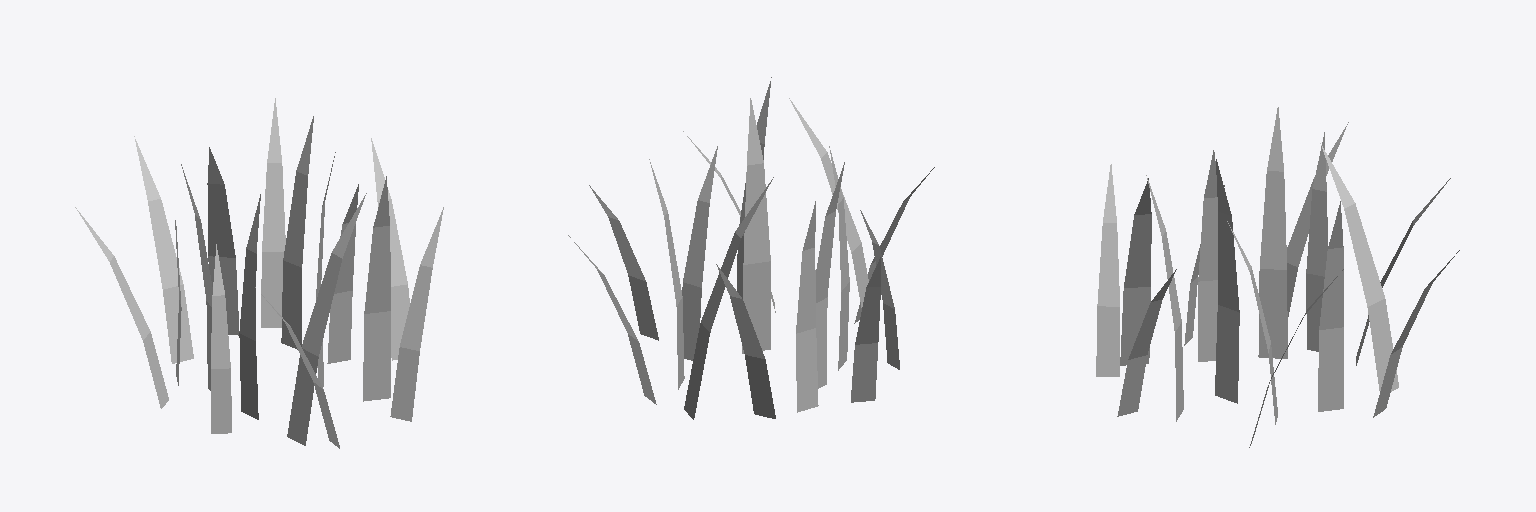
File: Grass.obj
The picture shows the model from 3 angles: view 1: azimuth 30°, elevation 25°; view 2: azimuth 150°, elevation 25°; view 3: azimuth 270°, elevation 25°; orthographic projection.
Parts seen in each view (by area): view 1: Grass_0; view 2: Grass_0; view 3: Grass_0.
Boxes of the visible parts, x1,y1,x2,y2 form: Grass_0: [75, 98, 443, 448]; Grass_0: [568, 77, 934, 419]; Grass_0: [1096, 107, 1459, 447].
Size of the model in its own units: 0.7747 by 0.6257 by 0.8349.